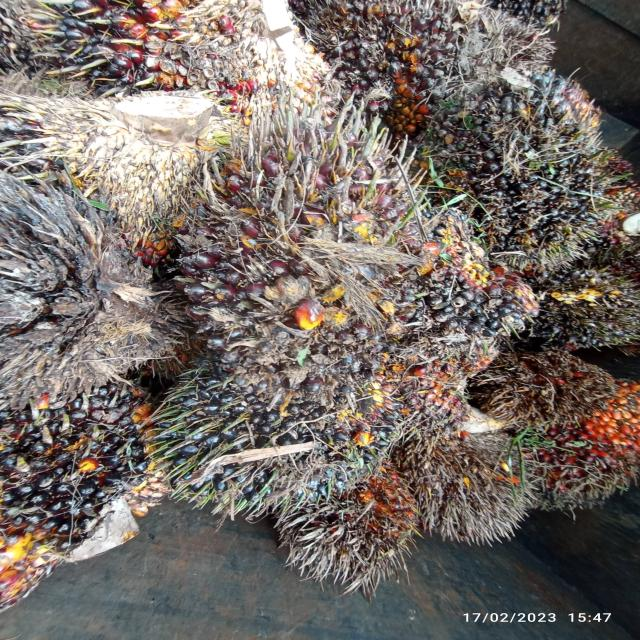fraksi 00: (172, 102, 452, 392), (154, 362, 410, 526), (430, 48, 610, 280), (0, 382, 174, 622), (324, 0, 569, 108), (414, 214, 536, 370), (540, 246, 640, 374)
fraksi 4: (538, 355, 640, 489)
